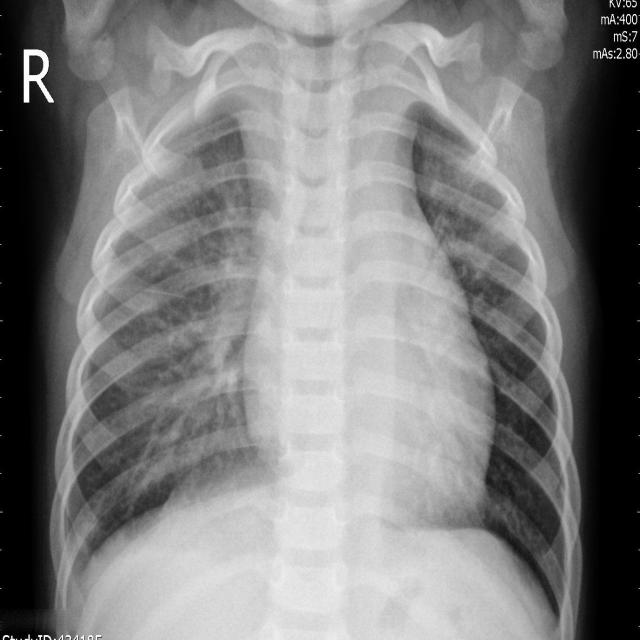low-pneumonia: (134, 346, 259, 494), (423, 121, 523, 294), (189, 175, 258, 397)
